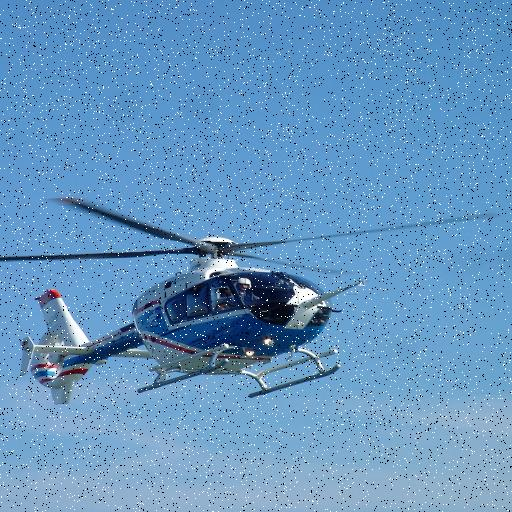helicopter: (1, 198, 485, 408)
